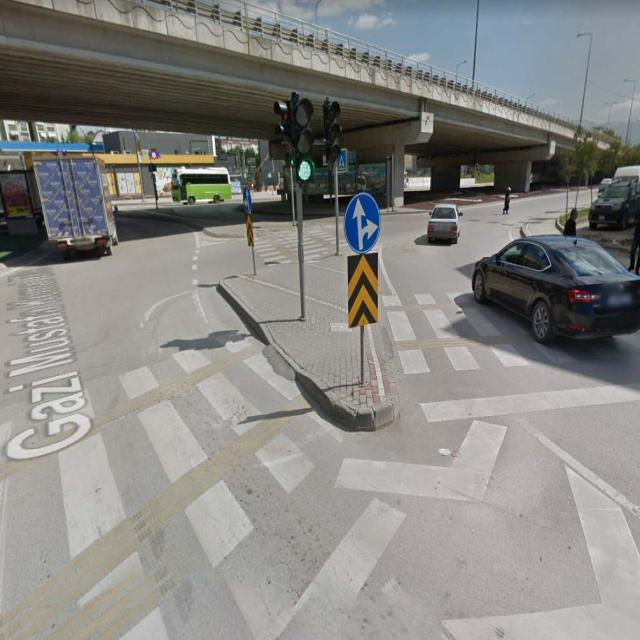ilerisag: (344, 196, 382, 250)
yesil: (291, 99, 316, 182)
